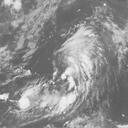cyclone: (58, 27, 102, 76)
